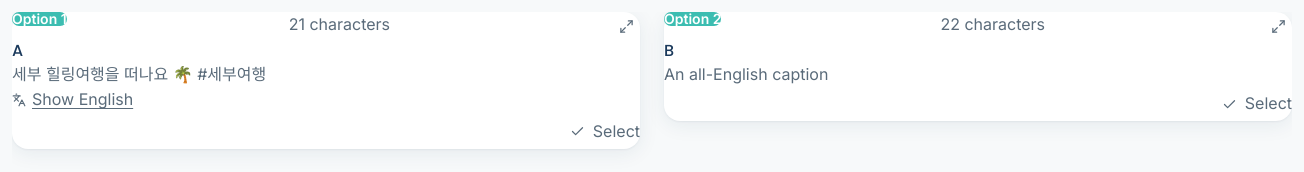
it: CaptionOptionGrid — Show English › translates on demand when generation supplied no English
This screenshot has width=1304, height=172.
What coordinates should you click on to do the following:
click the button with aria-label "Show English for A"
I would click on:
 (73, 100)
Its box is x1=12 y1=87 x2=133 y2=113.
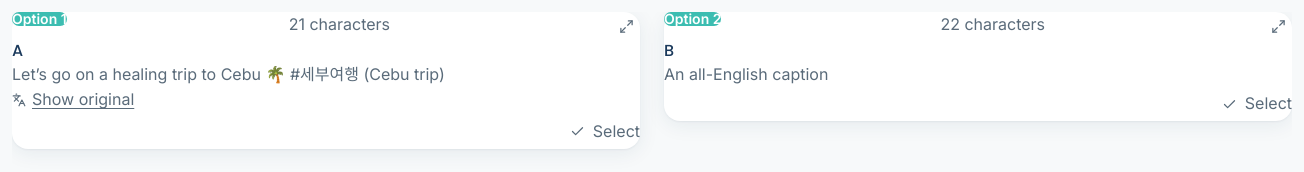
Now the text with test id "cap-body-0" reads "Let’s go on a healing trip to Cebu 🌴 #세부여행 (Cebu trip)", box x1=12 y1=64 x2=445 y2=84
